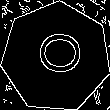O_W: (29, 34, 83, 80)
